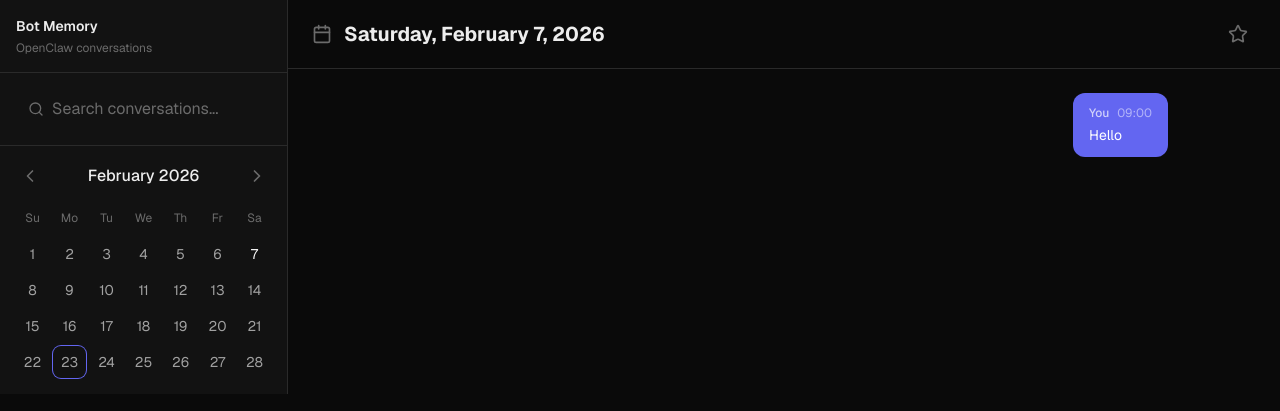
Test: MemoryPage › allows selecting a day without conversation and shows an empty-chat message
expect the text "Hello" is shown: met, box left=1089, top=126, right=1122, bottom=144
Click the button "8" at (32, 290), box left=16, top=274, right=49, bottom=306
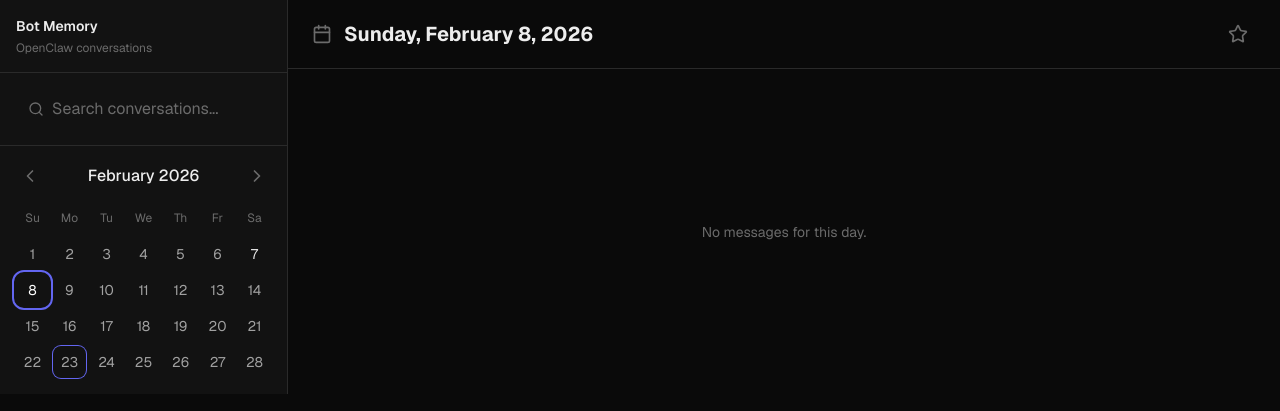
expect the text "No messages for this day." is shown: met, box left=702, top=222, right=866, bottom=242
